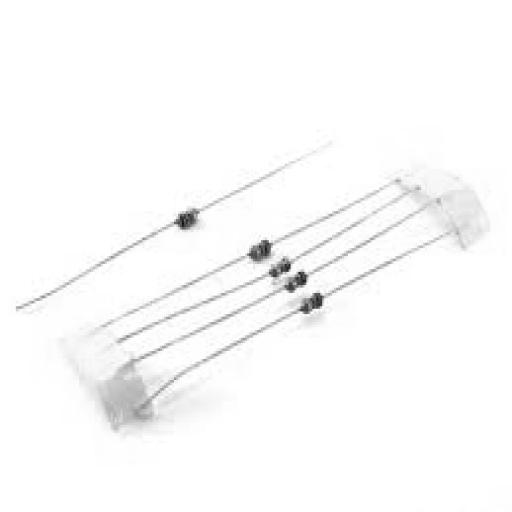RESISTOR: (140, 194, 225, 250), (228, 218, 279, 270), (275, 254, 319, 302), (290, 292, 334, 328), (262, 250, 296, 280)
